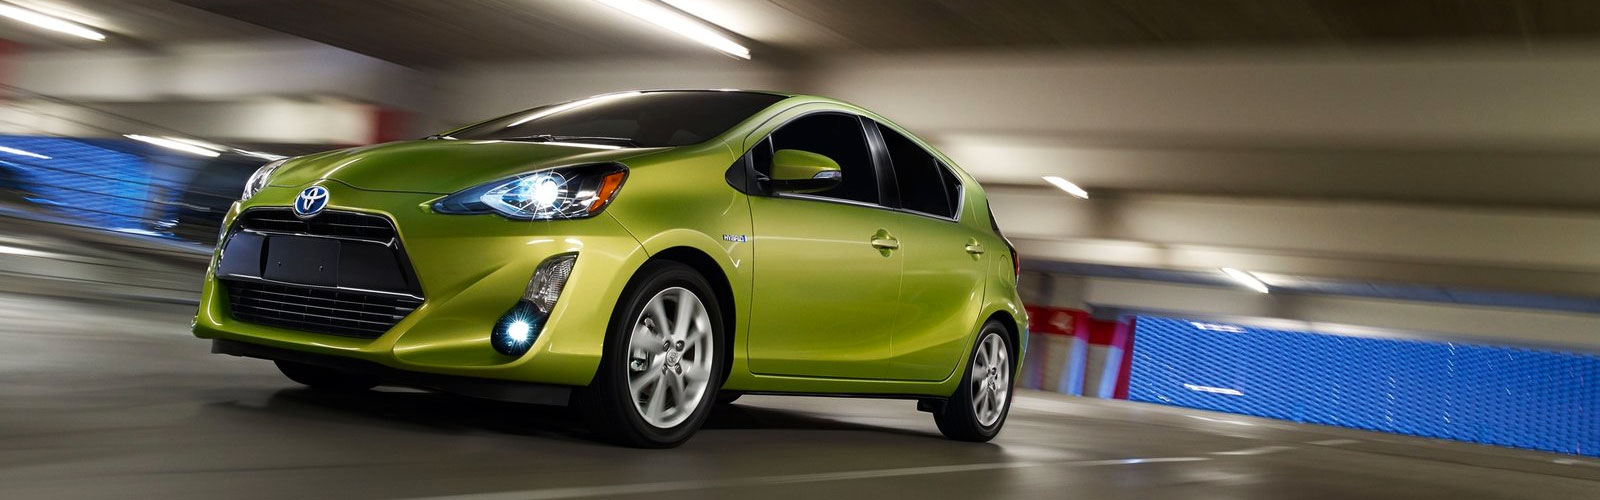Toyota Prius: (181, 84, 1037, 455)
